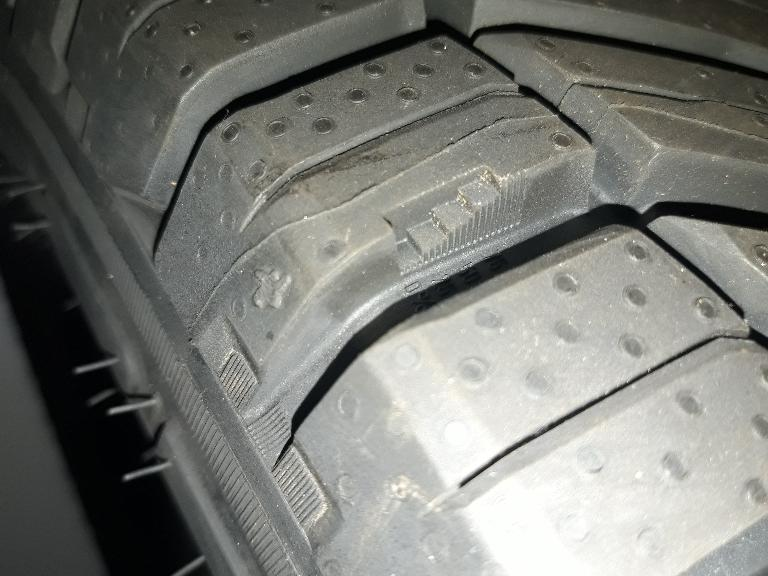temoin:100: (378, 160, 529, 278)
